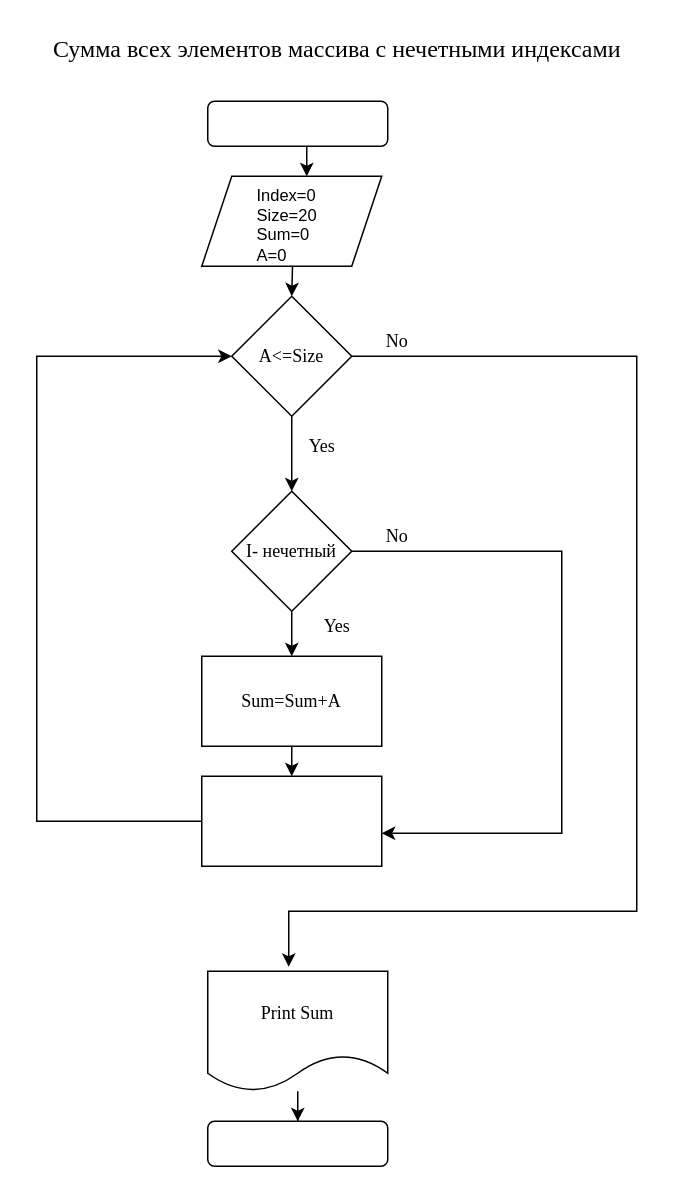
The diagram is 675 pixels wide and 1193 high, and some of its shapes have lost their labels. Here are the shapes that lost their labels. From the top down, the centre of each, then its label:
At pixel 297 123: "Start".
At pixel 291 820: "A=A+1".
At pixel 297 1143: "Stop".
